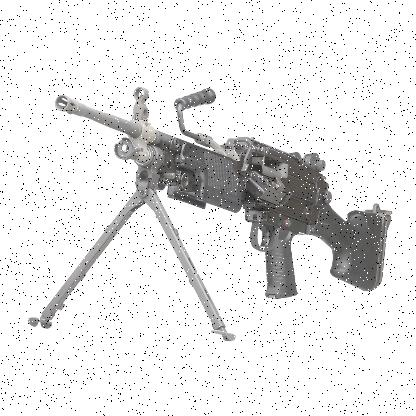gun: (26, 85, 392, 340)
